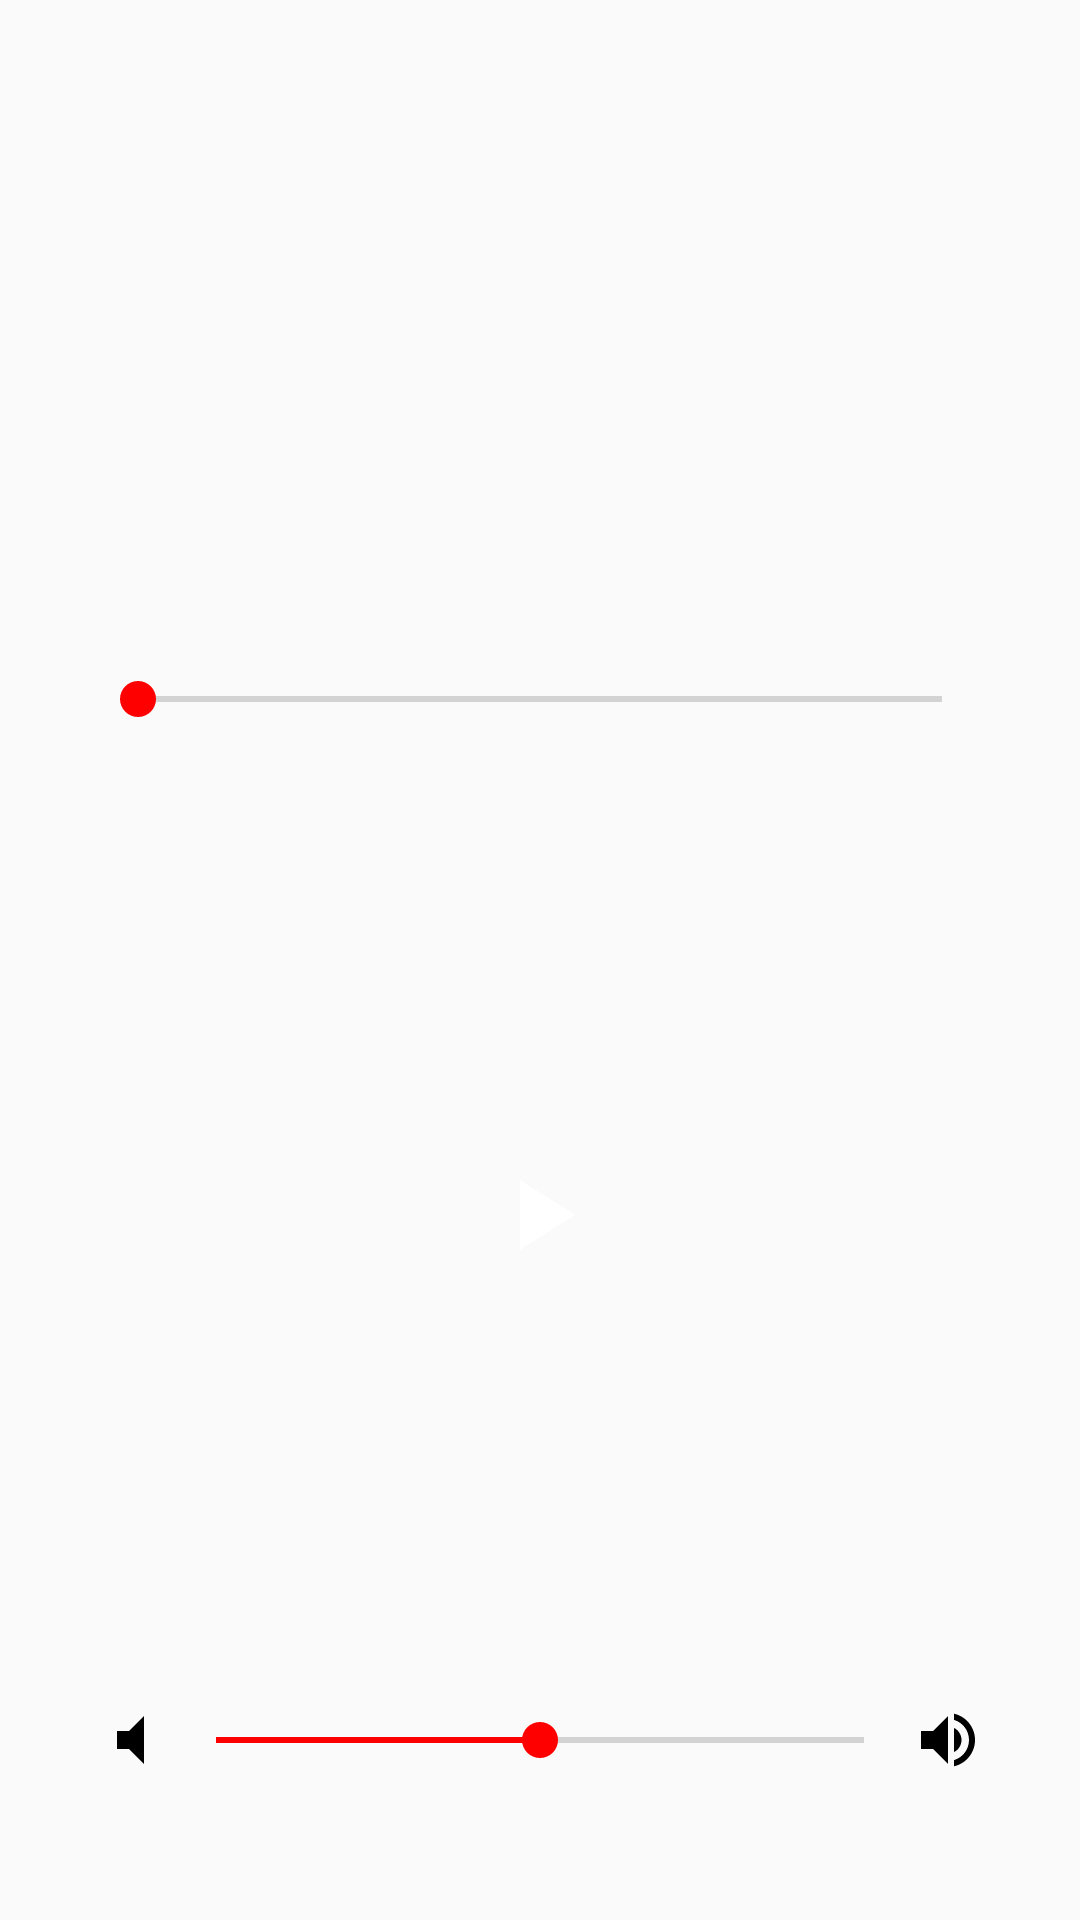

Screen size 1080w x 1920h. Icon name, then its box in pixels as {"left": x1, "top": y1, "right": x2, "bottom": y2}:
volume mute: {"left": 117, "top": 1716, "right": 144, "bottom": 1764}
volume up: {"left": 921, "top": 1713, "right": 975, "bottom": 1767}
